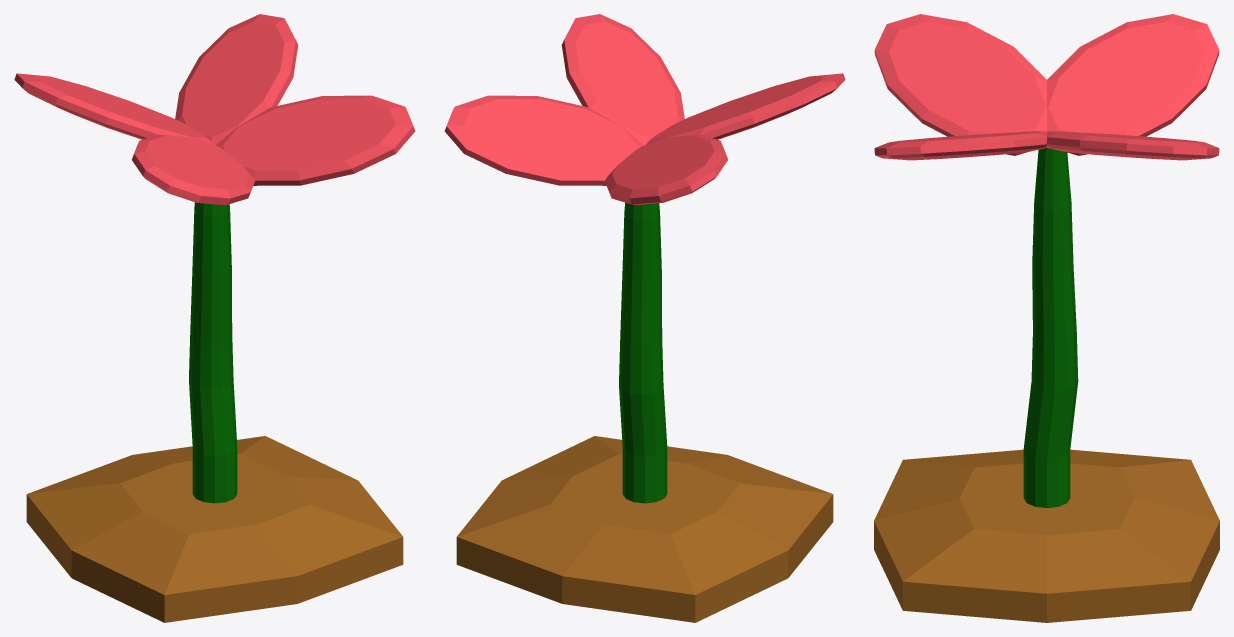
Rendered from Flower.fbx.
The picture shows the model from 3 angles, left to right: view 1: azimuth 30°, elevation 25°; view 2: azimuth 150°, elevation 25°; view 3: azimuth 270°, elevation 25°; orthographic projection. The views are drawn at different scales.
Parts seen in each view (by area): view 1: Ground, Petals, Stem; view 2: Ground, Petals, Stem; view 3: Ground, Petals, Stem.
Part boxes in pixels (<box>): Ground: <box>26,436,403,622</box>; Petals: <box>14,14,415,204</box>; Stem: <box>189,202,237,503</box>; Ground: <box>456,436,833,622</box>; Petals: <box>444,14,845,204</box>; Stem: <box>619,202,667,503</box>; Ground: <box>874,449,1219,622</box>; Petals: <box>874,14,1219,160</box>; Stem: <box>1023,148,1078,507</box>.
Size of the model in its own units: 480 by 719 by 480.
